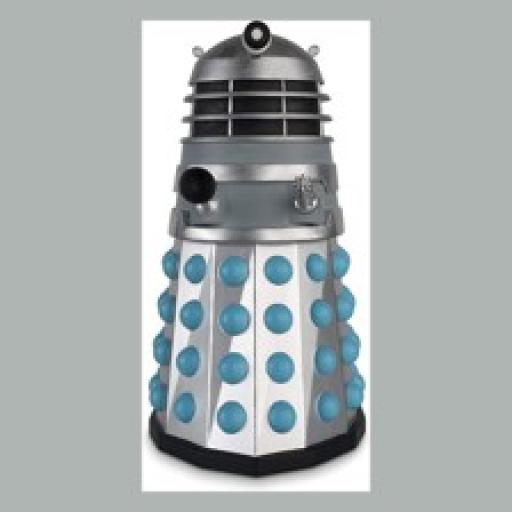dalek: (142, 20, 368, 476)
